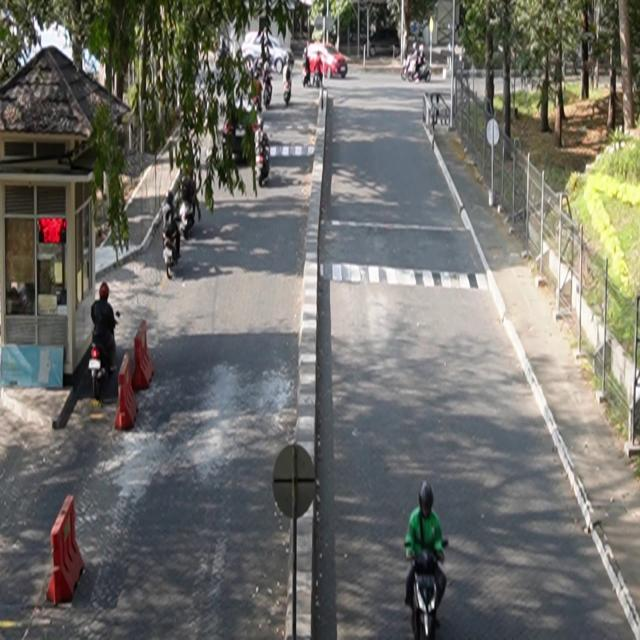car: (240, 31, 289, 76)
